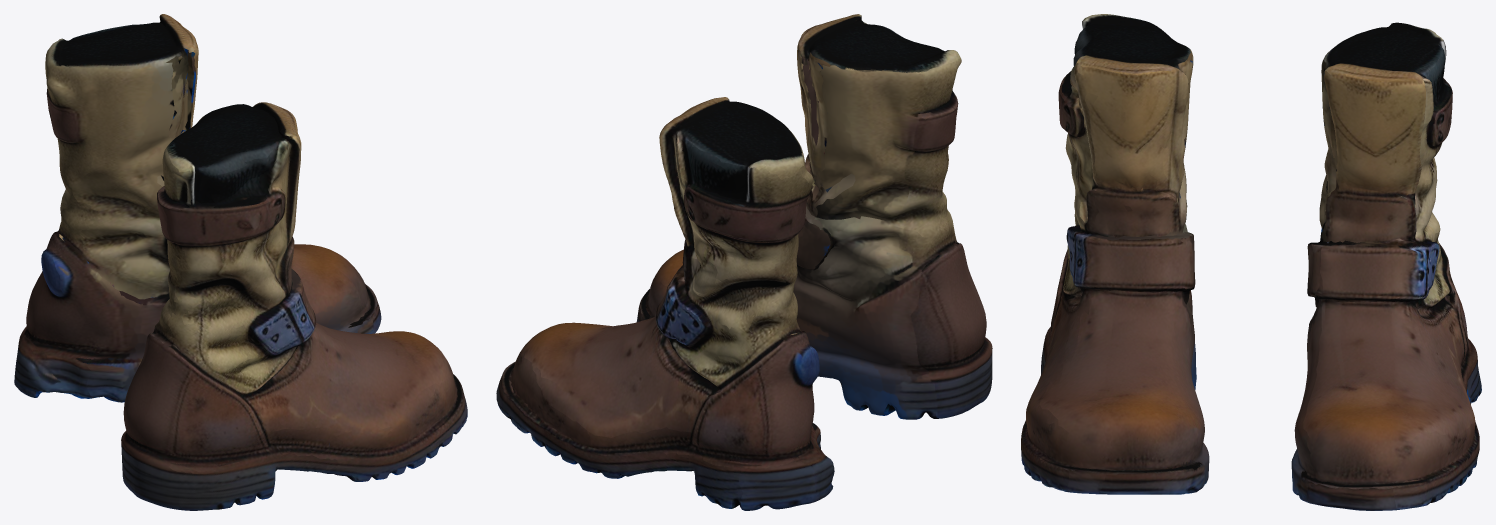
File: catalog-armor-4-13.glb
The picture shows the model from 3 angles, left to right: view 1: azimuth 30°, elevation 25°; view 2: azimuth 150°, elevation 25°; view 3: azimuth 270°, elevation 25°; orthographic projection. The views are drawn at different scales.
Visible parts, largest first — view 1: tmp3rlcvave.ply; view 2: tmp3rlcvave.ply; view 3: tmp3rlcvave.ply.
Part boxes in pixels (box(x1,y1,x2,y2)): tmp3rlcvave.ply: box(14, 14, 467, 510); tmp3rlcvave.ply: box(496, 14, 992, 510); tmp3rlcvave.ply: box(1021, 14, 1481, 510).
Bounding box in the file's own units: 1.87 × 1.72 × 1.95.
Materials: 1 (1 with a texture image).
